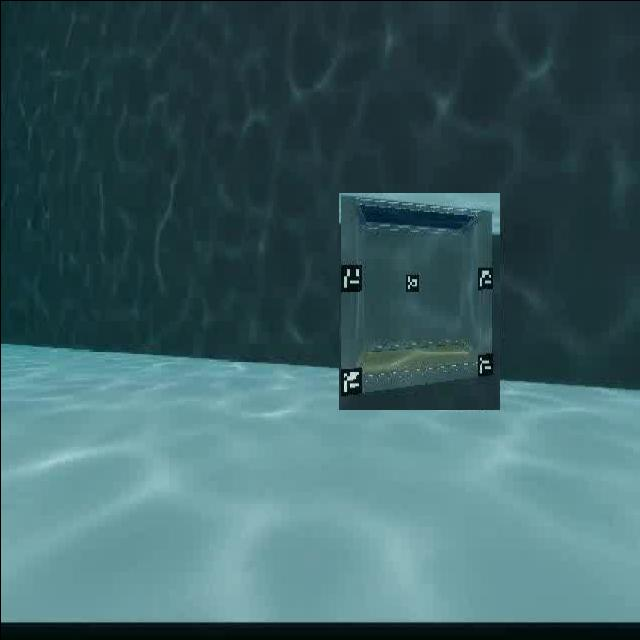Docking Station: (338, 192, 499, 409)
